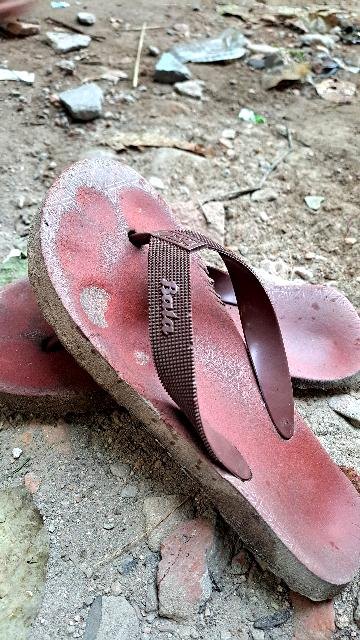sandal: (0, 127, 360, 640), (0, 278, 360, 429)
